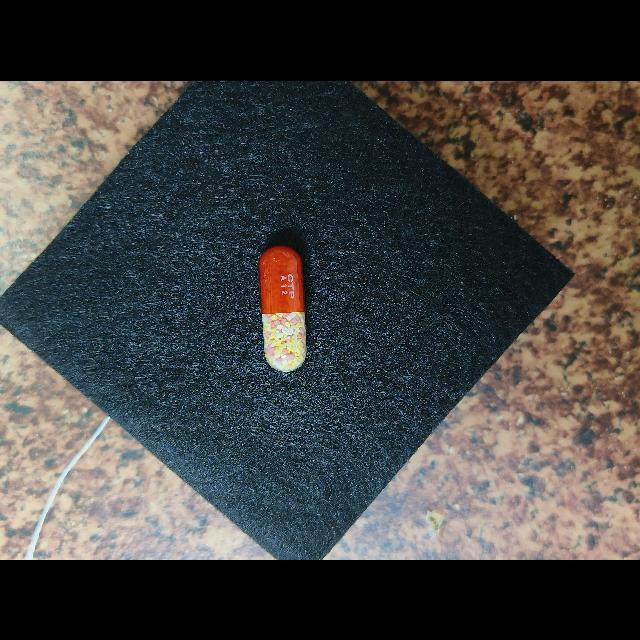Intact Capsule: (258, 245, 307, 371)
